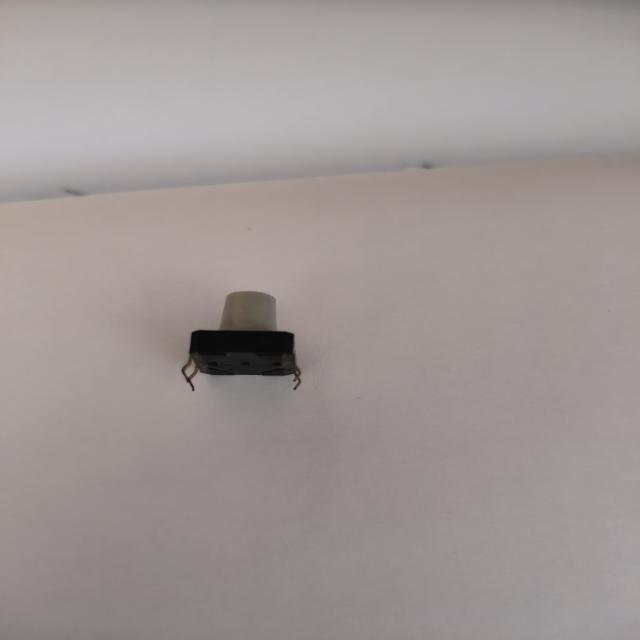switch: (173, 278, 316, 404)
